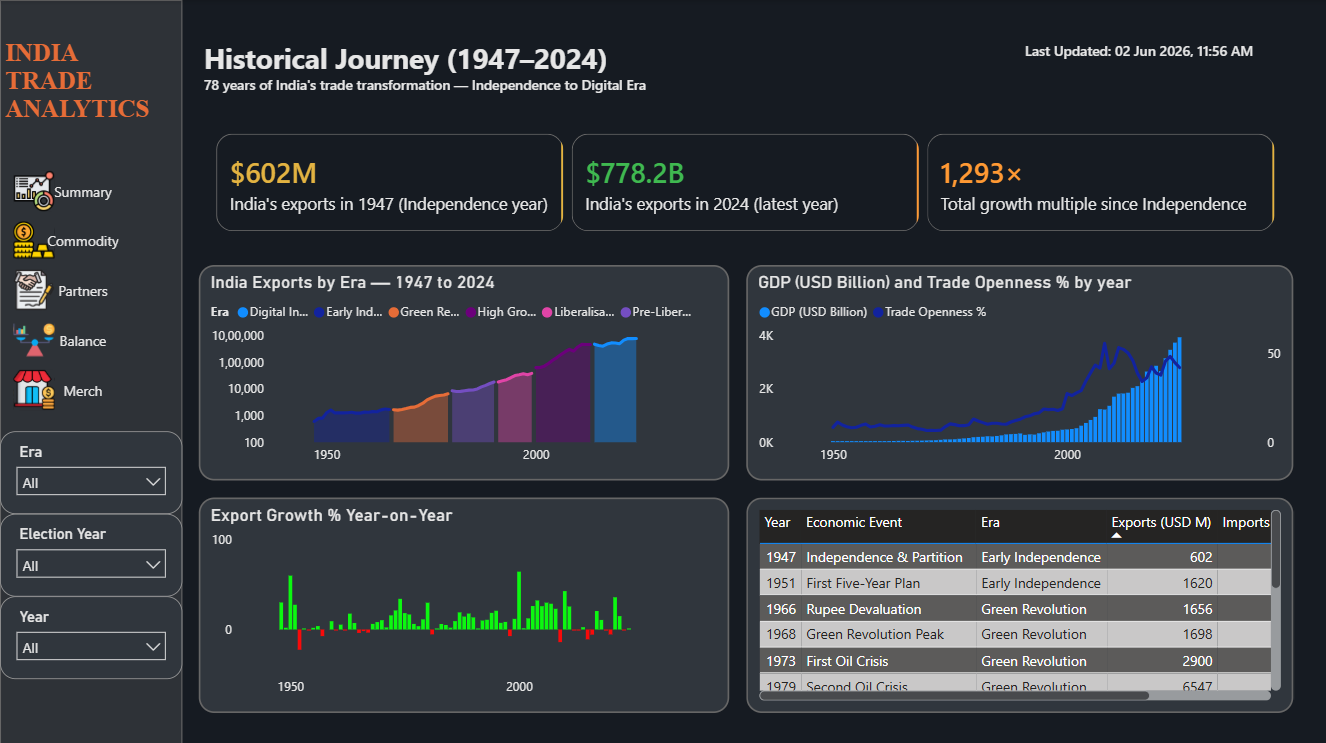

What the dashboard file says about the page in this screenshot:
{"tool":"powerbi","page":{"name":"Historical Journey 1947–2024","canvas":[1280,720],"ordinal":1},"visuals":[{"type":"cardVisual","fields":{"Data":["MeasuresTable.1947 Exports","MeasuresTable.Latest Exports","MeasuresTable.Trade Growth Multiple"]},"box":[192,112,1056,128],"z":0},{"type":"areaChart","title":"India Exports by Era — 1947 to 2024","fields":{"Category":["vw_TradeSummary.year"],"Y":["Sum(vw_TradeSummary.exports_usd_million)"],"Series":["vw_TradeSummary.era"]},"box":[192,256,512,208],"z":1000},{"type":"columnChart","title":"Export Growth % Year-on-Year","fields":{"Category":["vw_TradeSummary.year"],"Y":["Sum(vw_TradeSummary.export_growth_yoy_pct)"]},"box":[192,480,512,208],"z":2000},{"type":"lineClusteredColumnComboChart","fields":{"Category":["vw_TradeSummary.year"],"Y":["Sum(vw_TradeSummary.gdp_usd_billion)"],"Y2":["Sum(vw_TradeSummary.trade_openness_pct)"]},"box":[720,256,528,208],"z":3000},{"type":"tableEx","fields":{"Values":["vw_TradeSummary.year","vw_TradeSummary.economic_event","vw_TradeSummary.era","Sum(vw_TradeSummary.exports_usd_million)","Sum(vw_TradeSummary.imports_usd_million)","Sum(vw_TradeSummary.export_growth_yoy_pct)"]},"box":[720,480,528,208],"z":4000},{"type":"textbox","box":[192,32,448,64],"z":5000},{"type":"shape","box":[0,0,176,720],"z":6000},{"type":"textbox","box":[0,32,160,128],"z":7000},{"type":"actionButton","box":[0,208,160,48],"z":8000},{"type":"actionButton","box":[0,256,160,48],"z":9000},{"type":"actionButton","box":[0,304,160,48],"z":10000},{"type":"actionButton","box":[0,352,160,48],"z":11000},{"type":"actionButton","box":[0,160,160,48],"z":12000},{"type":"cardVisual","fields":{"Data":["MeasuresTable.Last Refreshed"]},"box":[960,16,288,64],"z":13000},{"type":"slicer","fields":{"Values":["vw_TradeSummary.era"]},"box":[0,416,176,80],"z":13001},{"type":"slicer","fields":{"Values":["vw_TradeSummary.is_election_year"]},"box":[0,496,176,80],"z":13002},{"type":"slicer","fields":{"Values":["vw_TradeSummary.year"]},"box":[0,576,176,80],"z":13003}]}

Visuals, with their boxes on the page's 1280x720 design canvas (x1, y1, x2, y2). These are canvas units, not pixel positions in the 1326x743 screenshot, which may show the page scaled, cropped or inside an application window:
cardVisual - MeasuresTable.1947 Exports x MeasuresTable.Latest Exports: [192,112,1248,240]
"India Exports by Era — 1947 to 2024" areaChart: [192,256,704,464]
"Export Growth % Year-on-Year" columnChart: [192,480,704,688]
lineClusteredColumnComboChart - vw_TradeSummary.year x Sum(vw_TradeSummary.gdp_usd_billion): [720,256,1248,464]
tableEx - vw_TradeSummary.year x vw_TradeSummary.economic_event: [720,480,1248,688]
textbox: [192,32,640,96]
shape: [0,0,176,720]
textbox: [0,32,160,160]
actionButton: [0,208,160,256]
actionButton: [0,256,160,304]
actionButton: [0,304,160,352]
actionButton: [0,352,160,400]
actionButton: [0,160,160,208]
cardVisual - MeasuresTable.Last Refreshed: [960,16,1248,80]
slicer - vw_TradeSummary.era: [0,416,176,496]
slicer - vw_TradeSummary.is_election_year: [0,496,176,576]
slicer - vw_TradeSummary.year: [0,576,176,656]
